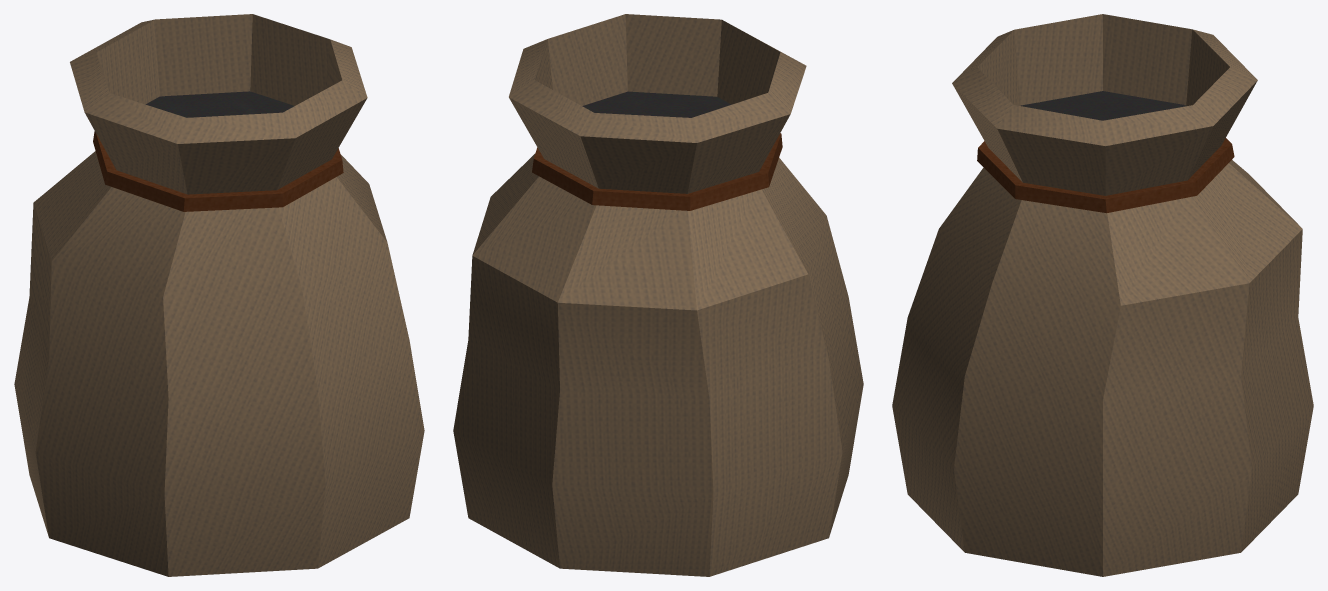
Rendered from Pouch.fbx.
3 views of the same model, side by side, from view 1: azimuth 30°, elevation 25°; view 2: azimuth 150°, elevation 25°; view 3: azimuth 270°, elevation 25° (orthographic).
Parts seen in each view (by area): view 1: pCylinder3; view 2: pCylinder3; view 3: pCylinder3.
Boxes of the visible parts, box(x1,y1,x2,y2) form: pCylinder3: box(14, 14, 424, 576); pCylinder3: box(453, 14, 863, 576); pCylinder3: box(892, 14, 1313, 576).
Size of the model in its own units: 71.46 by 79.91 by 71.46.
